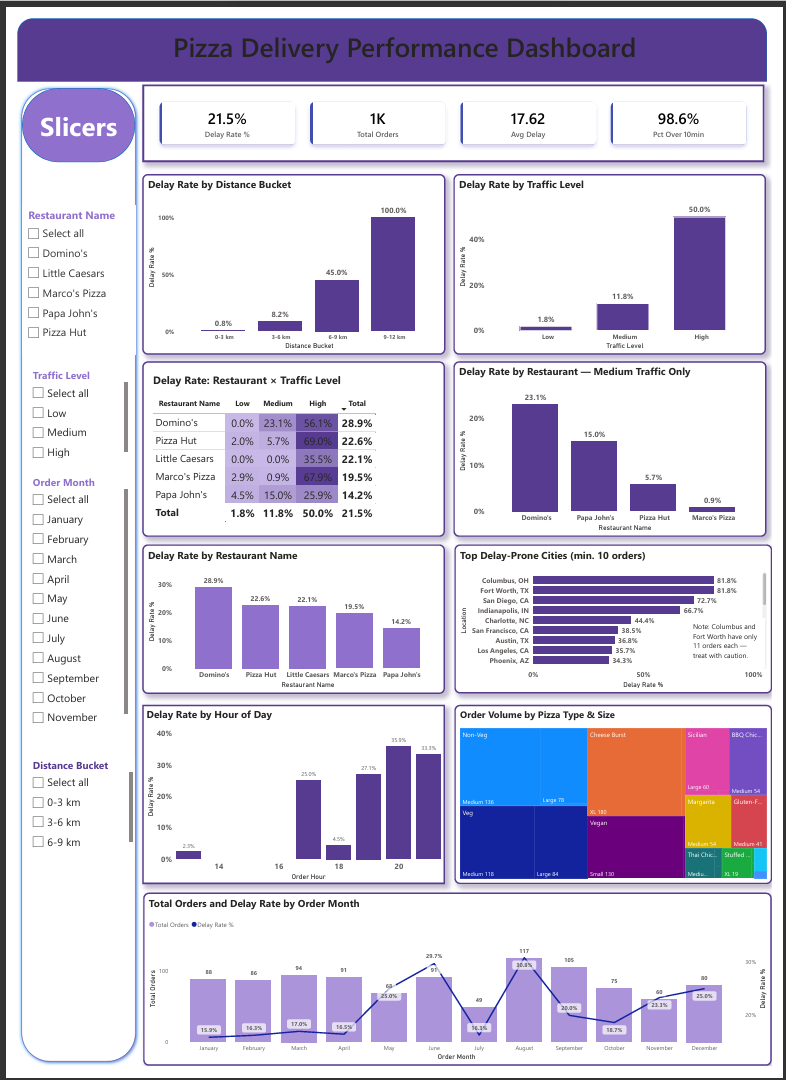

This screenshot's page, from the dashboard's own definition file:
{"tool":"powerbi","page":{"name":"Page 1","canvas":[1600,2220],"ordinal":0},"visuals":[{"type":"cardVisual","fields":{"Data":["public pizza_orders.Delay Rate %","public pizza_orders.Total Orders","public pizza_orders.Avg Delay","public pizza_orders.Pct Over 10min"]},"box":[265,140,1320,165],"z":0},{"type":"clusteredColumnChart","title":"Delay Rate by Distance Bucket","fields":{"Category":["public pizza_orders.Distance Bucket"],"Y":["public pizza_orders.Delay Rate %"]},"box":[265,330,642.5,382.5],"z":1000},{"type":"clusteredColumnChart","title":"Delay Rate  by Traffic Level","fields":{"Category":["public pizza_orders.Traffic Level"],"Y":["public pizza_orders.Delay Rate %"]},"box":[925,330,662.5,382.5],"z":2000},{"type":"clusteredColumnChart","title":"Delay Rate by Restaurant Name","fields":{"Category":["public pizza_orders.Restaurant Name"],"Y":["public pizza_orders.Delay Rate %"]},"box":[265,1115,641.7,316.7],"z":3000},{"type":"pivotTable","title":"Restaurant Name by traffic ","fields":{"Rows":["public pizza_orders.Restaurant Name"],"Columns":["public pizza_orders.Traffic Level"],"Values":["public pizza_orders.Delay Rates %"]},"box":[265,726.7,642,372],"z":4000},{"type":"clusteredColumnChart","title":"Delay Rate by Restaurant — Medium Traffic Only","fields":{"Category":["public pizza_orders.Restaurant Name"],"Y":["public pizza_orders.Delay Rate %"]},"box":[925,726.7,664,372],"z":5000},{"type":"clusteredColumnChart","title":"Delay Rate by Hour of Day","fields":{"Category":["public pizza_orders.Order Hour"],"Y":["public pizza_orders.Delay Rate %"]},"box":[265,1455,641.7,380],"z":6000},{"type":"lineClusteredColumnComboChart","title":"Total Orders and Delay Rate by Order Month","fields":{"Category":["public pizza_orders.Order Month"],"Y":["public pizza_orders.Total Orders"],"Y2":["public pizza_orders.Delay Rate %"]},"box":[266.7,1853.3,1333.3,366.7],"z":7000},{"type":"clusteredBarChart","title":"Top Delay-Prone Cities (min. 10 orders)","fields":{"Category":["public pizza_orders.Location"],"Y":["public pizza_orders.Delay Rate %"]},"box":[926.7,1115,674,316],"z":8000},{"type":"treemap","title":"Order Volume by Pizza Type & Size","fields":{"Group":["public pizza_orders.Pizza Type"],"Details":["public pizza_orders.Pizza Size"],"Values":["public pizza_orders.Total Orders"]},"box":[926.7,1455,674,380],"z":9000},{"type":"shape","box":[0,0,1590,134],"z":10000},{"type":"textbox","box":[130,18,1398,116],"z":11000},{"type":"shape","box":[0,140,260,1950],"z":12000},{"type":"slicer","fields":{"Values":["public pizza_orders.Restaurant Name"]},"box":[10,396.7,240,316.7],"z":13000},{"type":"slicer","fields":{"Values":["public pizza_orders.Traffic Level"]},"box":[20,736.7,220,200],"z":14000},{"type":"slicer","fields":{"Values":["public pizza_orders.Order Month"]},"box":[20,963.3,220,550],"z":15000},{"type":"slicer","fields":{"Values":["public pizza_orders.Distance Bucket"]},"box":[20,1563.3,230,216.7],"z":16000},{"type":"shape","box":[10,147.5,240,157.5],"z":17000}]}

Visuals, with their boxes in screenshot pixels (x1, y1, x2, y2), scaled from the page's 1600x2220 canvas onto the 786x1080 screenshot:
cardVisual - public pizza_orders.Delay Rate % x public pizza_orders.Total Orders: <bbox>130, 68, 779, 148</bbox>
"Delay Rate by Distance Bucket" clusteredColumnChart: <bbox>130, 161, 446, 347</bbox>
"Delay Rate  by Traffic Level" clusteredColumnChart: <bbox>454, 161, 780, 347</bbox>
"Delay Rate by Restaurant Name" clusteredColumnChart: <bbox>130, 542, 445, 697</bbox>
"Restaurant Name by traffic " pivotTable: <bbox>130, 354, 446, 535</bbox>
"Delay Rate by Restaurant — Medium Traffic Only" clusteredColumnChart: <bbox>454, 354, 781, 535</bbox>
"Delay Rate by Hour of Day" clusteredColumnChart: <bbox>130, 708, 445, 893</bbox>
"Total Orders and Delay Rate by Order Month" lineClusteredColumnComboChart: <bbox>131, 902, 785, 1079</bbox>
"Top Delay-Prone Cities (min. 10 orders)" clusteredBarChart: <bbox>455, 542, 785, 696</bbox>
"Order Volume by Pizza Type & Size" treemap: <bbox>455, 708, 785, 893</bbox>
shape: <bbox>0, 0, 781, 65</bbox>
textbox: <bbox>64, 9, 751, 65</bbox>
shape: <bbox>0, 68, 128, 1017</bbox>
slicer - public pizza_orders.Restaurant Name: <bbox>5, 193, 123, 347</bbox>
slicer - public pizza_orders.Traffic Level: <bbox>10, 358, 118, 456</bbox>
slicer - public pizza_orders.Order Month: <bbox>10, 469, 118, 736</bbox>
slicer - public pizza_orders.Distance Bucket: <bbox>10, 761, 123, 866</bbox>
shape: <bbox>5, 72, 123, 148</bbox>
